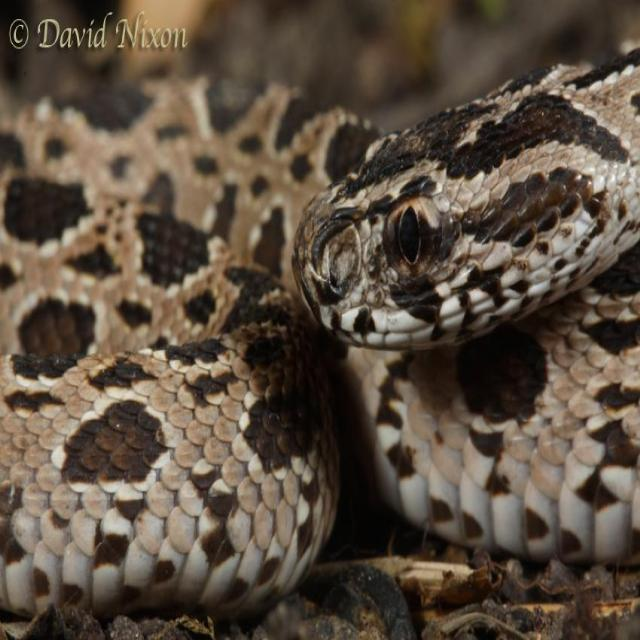Snake: (1, 46, 638, 621)
